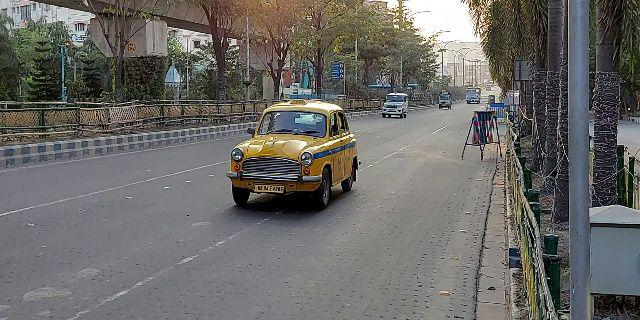Car: (226, 95, 363, 210), (378, 88, 410, 120)
